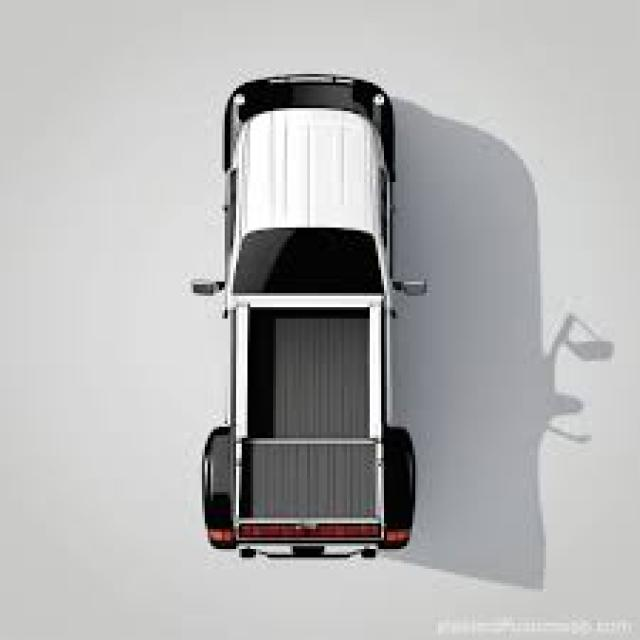truck: (203, 71, 418, 559)
